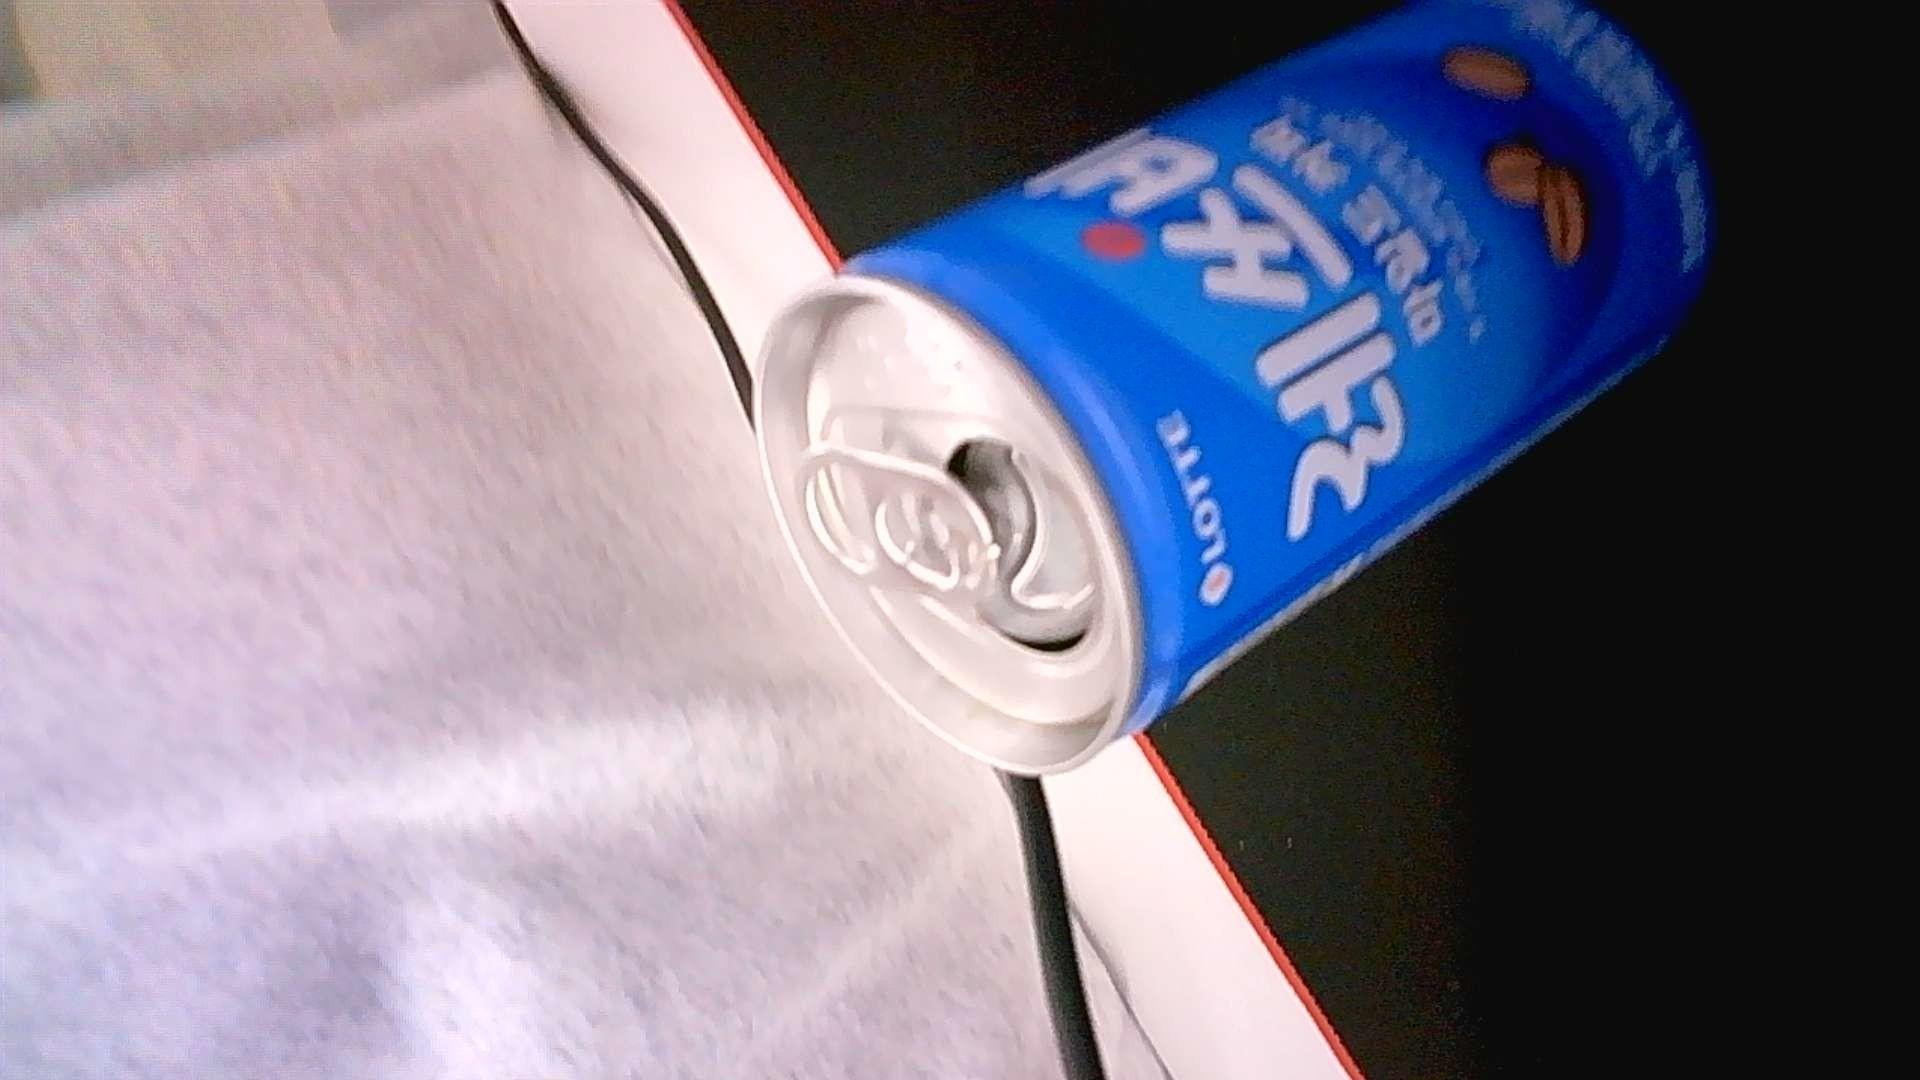letsbe: (752, 0, 1712, 775)
